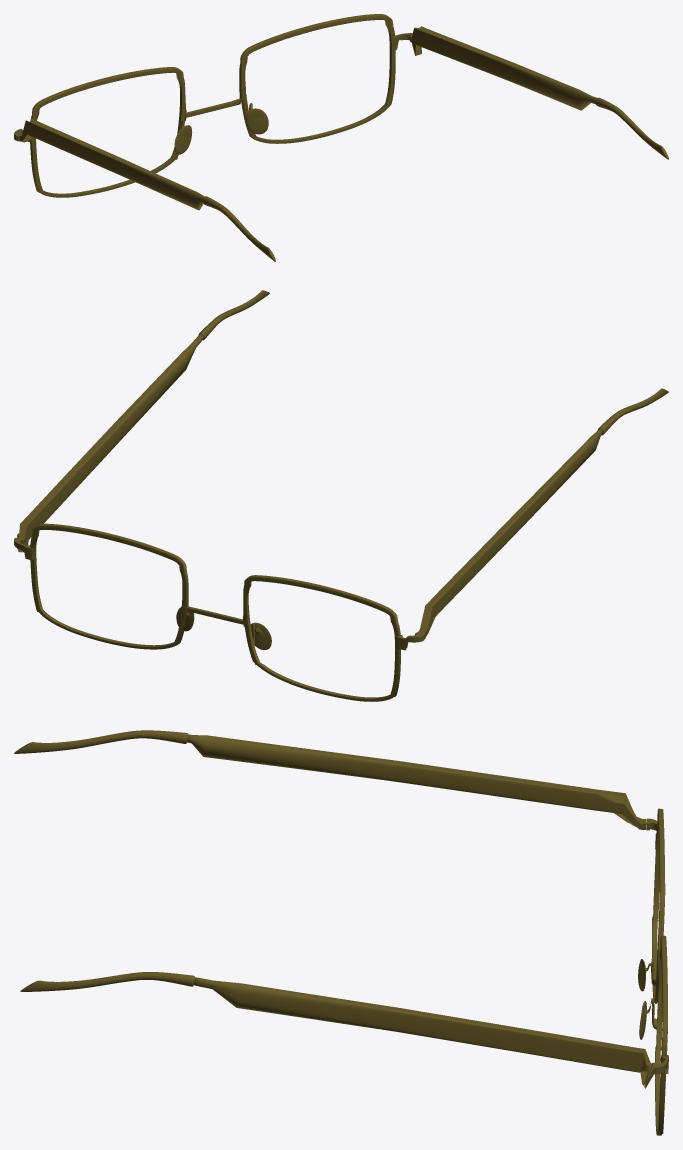
The picture shows the model from 3 angles, top to bottom: view 1: azimuth 30°, elevation 25°; view 2: azimuth 150°, elevation 25°; view 3: azimuth 270°, elevation 25°; orthographic projection. The views are drawn at different scales.
Visible parts, largest first — view 1: _Metal_Frame_Reading_Glasses_V2_Max2011_iterations_2:_Metal_; view 2: _Metal_Frame_Reading_Glasses_V2_Max2011_iterations_2:_Metal_; view 3: _Metal_Frame_Reading_Glasses_V2_Max2011_iterations_2:_Metal_.
Boxes of the visible parts, x1,y1,x2,y2 form: _Metal_Frame_Reading_Glasses_V2_Max2011_iterations_2:_Metal_: [14, 14, 668, 261]; _Metal_Frame_Reading_Glasses_V2_Max2011_iterations_2:_Metal_: [14, 290, 668, 701]; _Metal_Frame_Reading_Glasses_V2_Max2011_iterations_2:_Metal_: [14, 730, 668, 1135].
Bounding box in the file's own units: 16 × 5.84 × 17.79.
